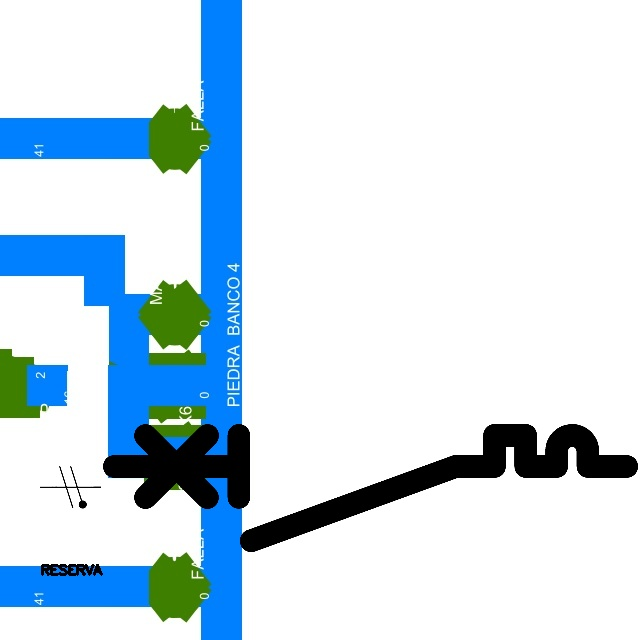interruptor_termomagnetico: (100, 422, 639, 554)
